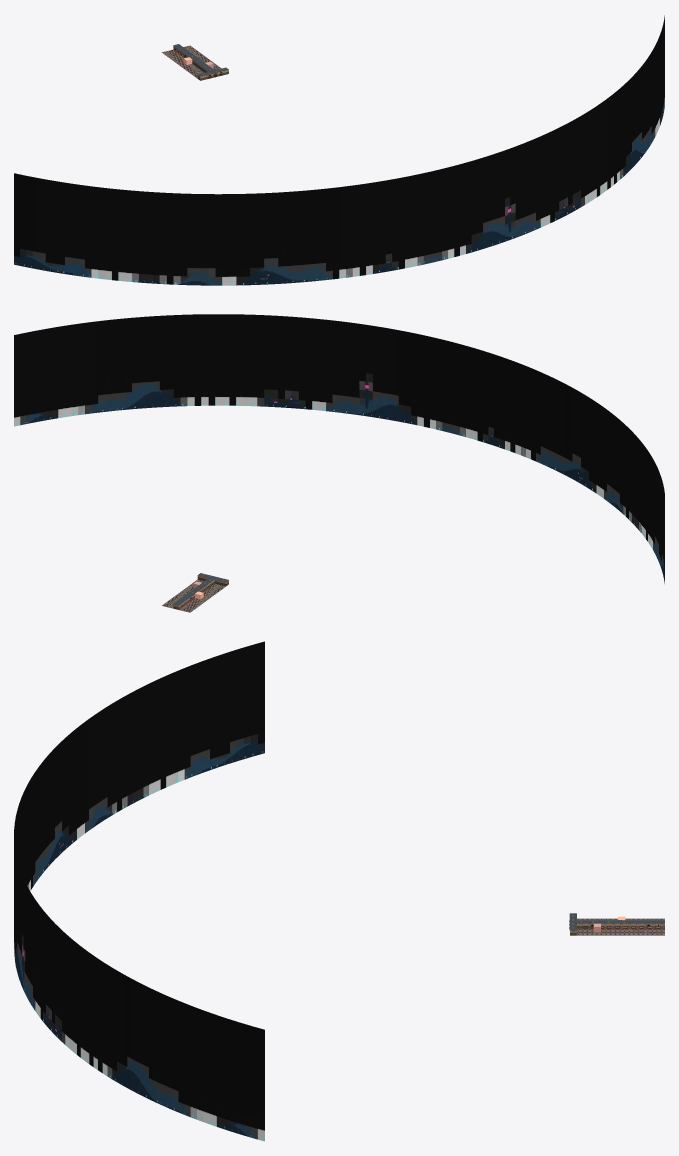
The model's file is goodboat-corridor-1-night.glb.
The picture shows the model from 3 angles, top to bottom: view 1: azimuth 30°, elevation 25°; view 2: azimuth 150°, elevation 25°; view 3: azimuth 270°, elevation 25°; orthographic projection. The views are drawn at different scales.
Parts seen in each view (by area): view 1: object 112, object 9; view 2: object 112, object 9; view 3: object 112, object 9.
Boxes of the visible parts, x1=… form: object 112: x1=14, y1=15, x2=664, y2=285; object 9: x1=162, y1=45, x2=221, y2=78; object 112: x1=14, y1=314, x2=664, y2=583; object 9: x1=162, y1=579, x2=225, y2=612; object 112: x1=14, y1=641, x2=264, y2=1141; object 9: x1=576, y1=918, x2=664, y2=935.
Bounding box in the file's own units: 387 × 51.98 × 274.
Materials: 138 (58 with a texture image).
